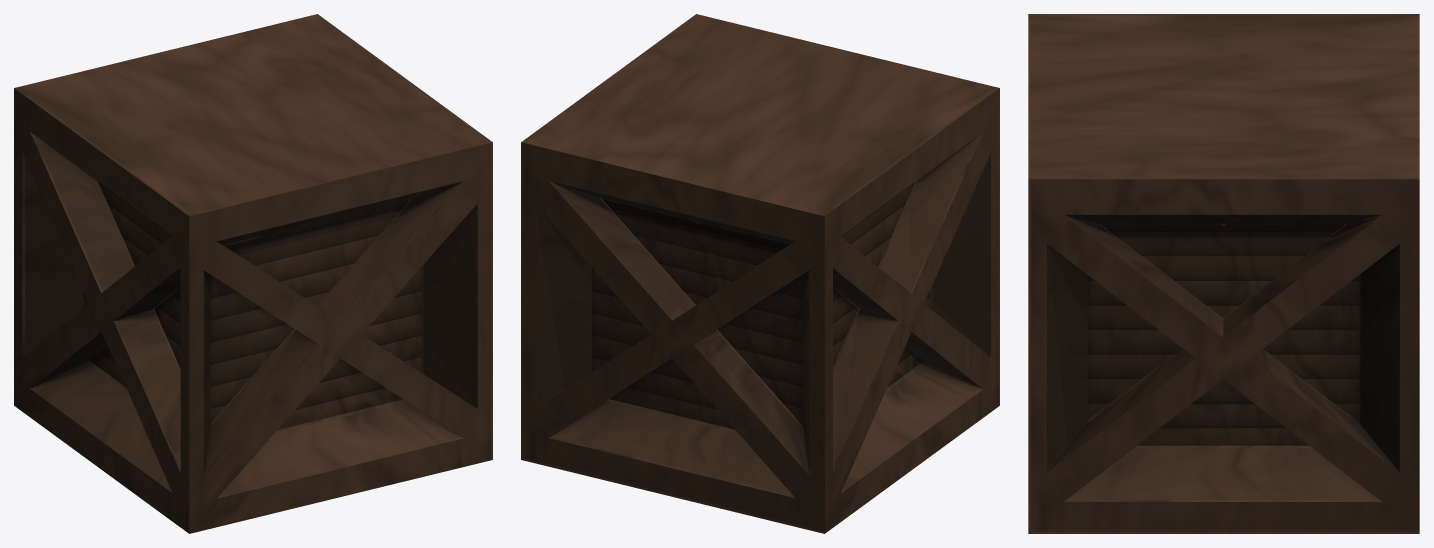
The model's file is wood.glb.
The picture shows the model from 3 angles, left to right: view 1: azimuth 30°, elevation 25°; view 2: azimuth 150°, elevation 25°; view 3: azimuth 270°, elevation 25°; orthographic projection. The views are drawn at different scales.
Visible parts, largest first — view 1: Cube.001; view 2: Cube.001; view 3: Cube.001.
Part boxes in pixels (box(x1,y1,x2,y2)): Cube.001: box(14, 14, 492, 533); Cube.001: box(521, 14, 999, 533); Cube.001: box(1028, 14, 1419, 533).
Bounding box in the file's own units: 1 × 1 × 1.
Materials: 1 (1 with a texture image).
